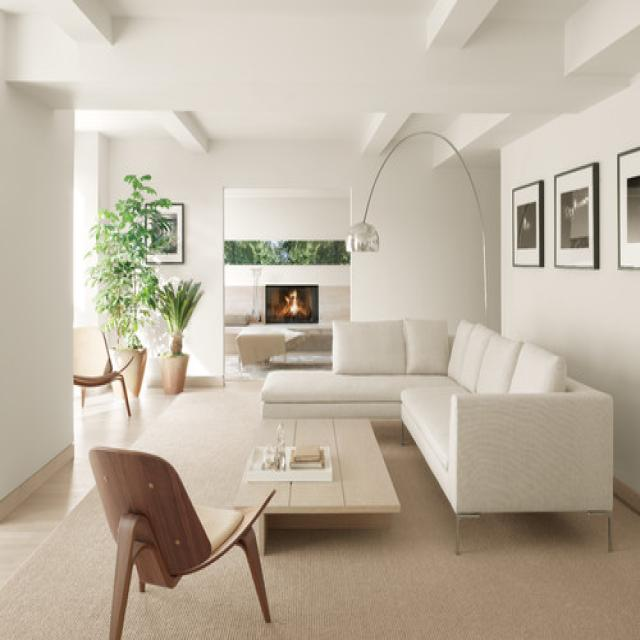natural chair: (82, 441, 274, 640), (78, 322, 132, 415)
natural desk: (254, 415, 396, 529)
natural sofa: (403, 314, 623, 556), (259, 321, 488, 416)
